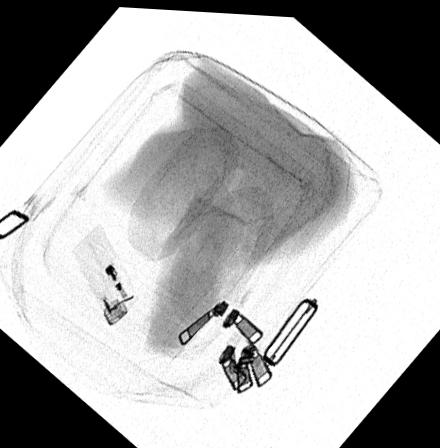Lighter: (69, 219, 139, 325)
